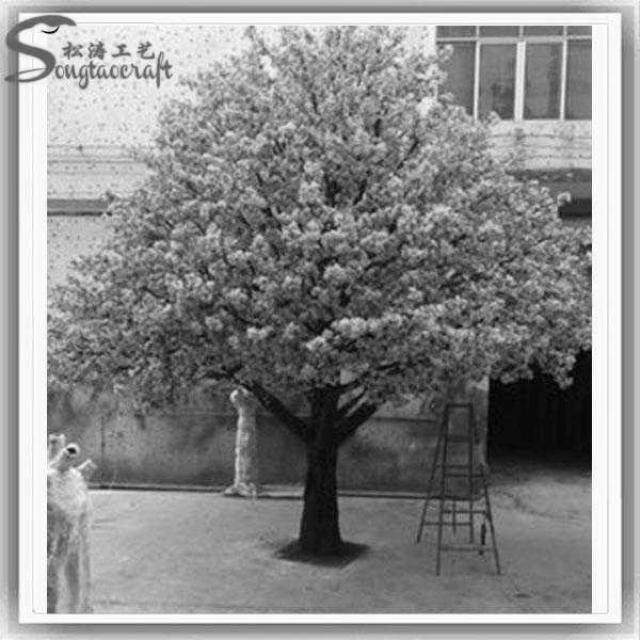Tree: (49, 31, 590, 550)
